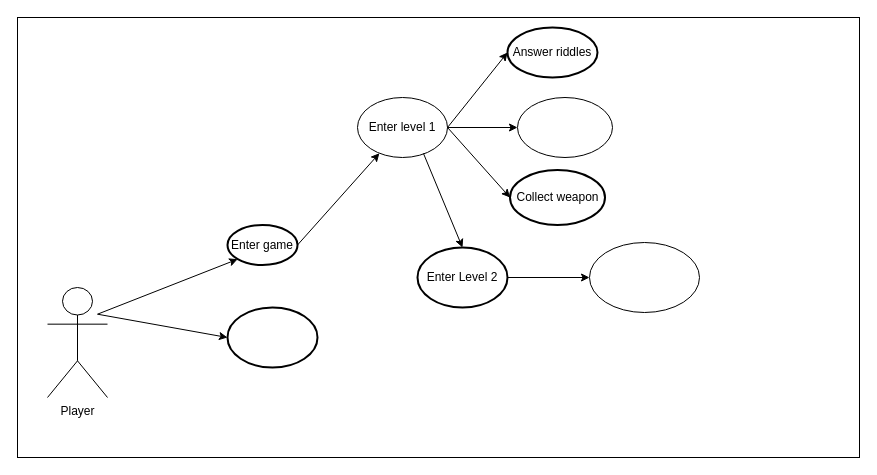
Some shapes in this 877 by 475 pixel diagram are drawn without their labels. The shapes that lost their labels are listed below. From the top down, each one's centre as x and y in pixels, then its label:
At point 564,127: "Attack Enemies".
At point 644,277: "Fight the final boss".
At point 272,337: "Exit game".
